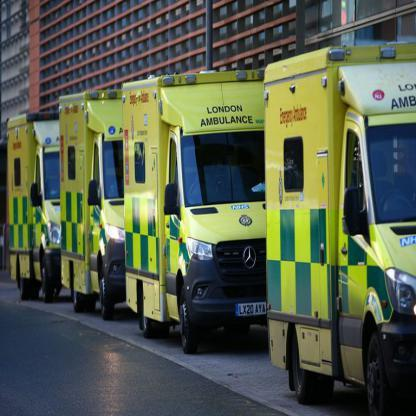Ambulance - v1 Ambulance last generate: (271, 44, 415, 390), (125, 67, 272, 326), (64, 87, 131, 293), (10, 110, 62, 306)
